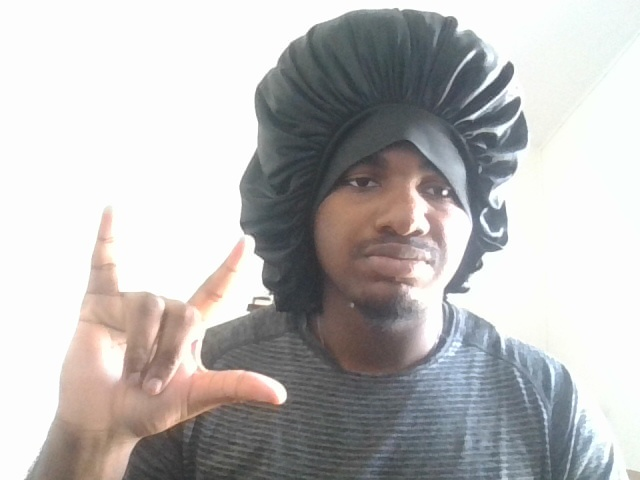I Love You: (43, 194, 300, 433)
